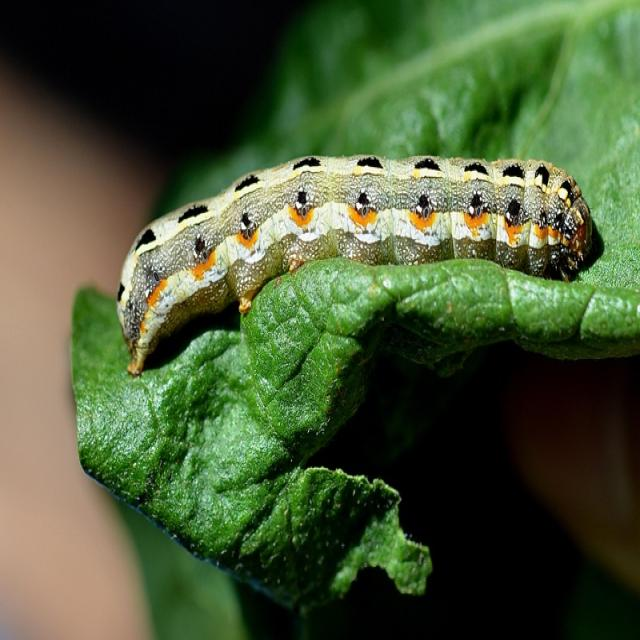armyworm: (115, 151, 594, 376)
